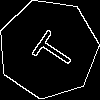T: (23, 24, 78, 75)
